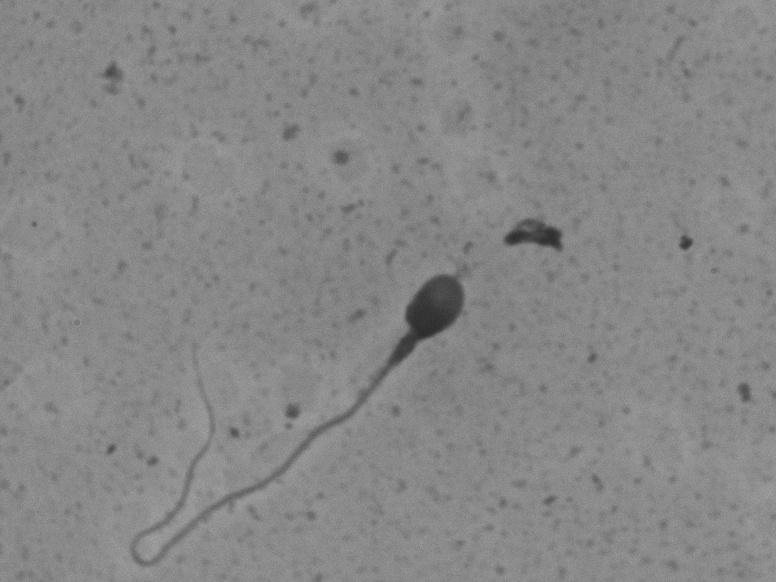Abnormal: (103, 248, 481, 576)
